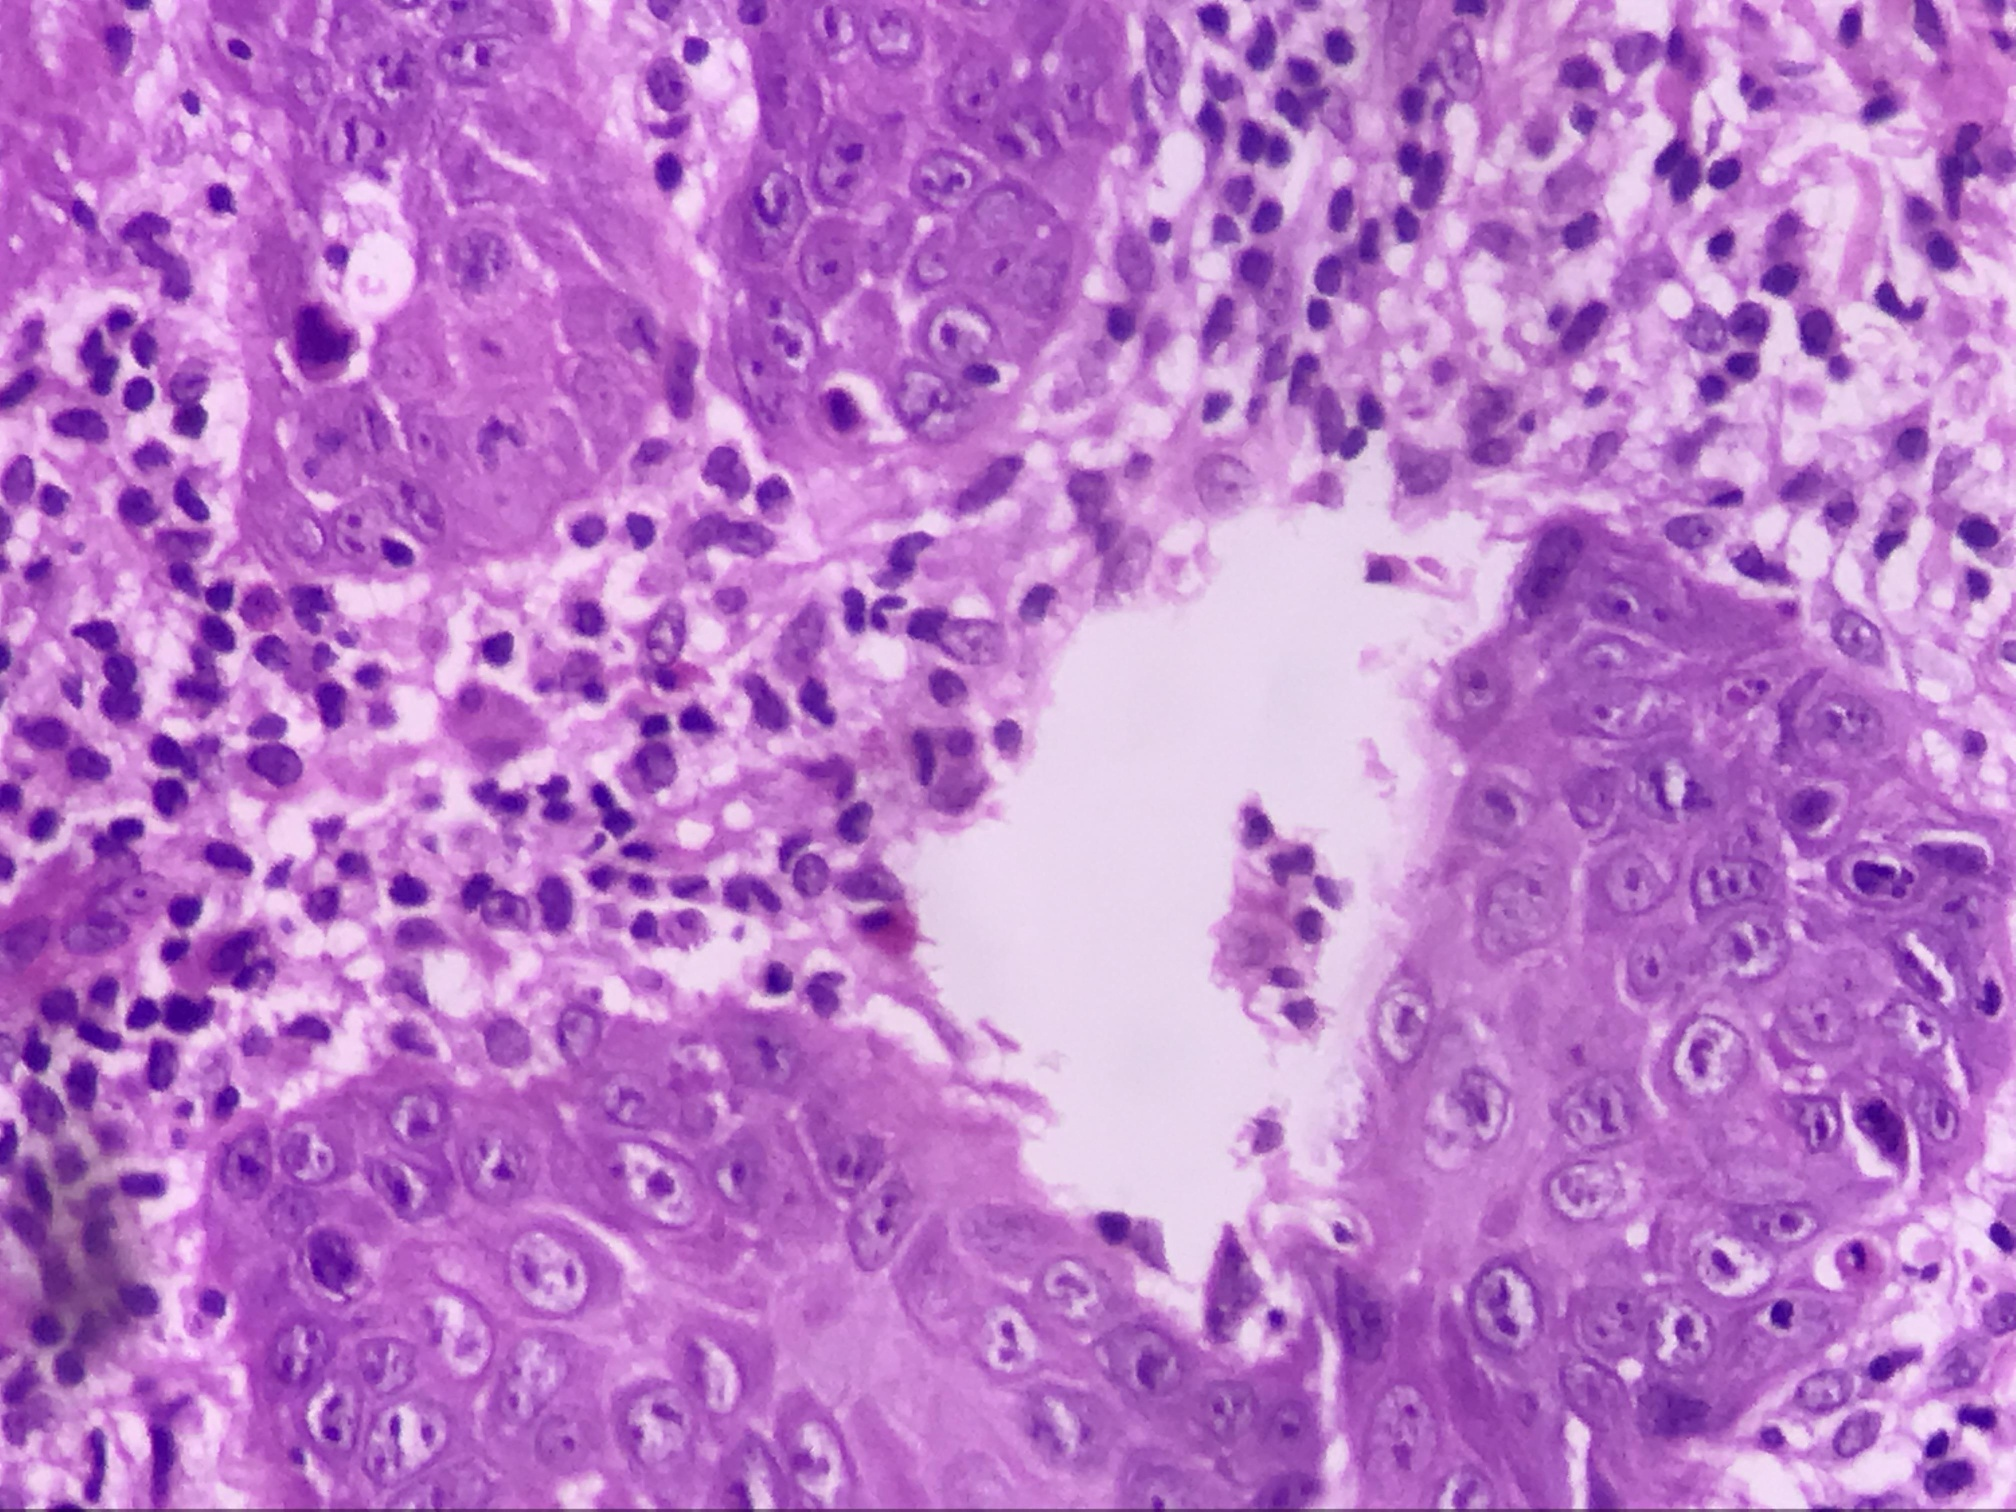mitotic: (260, 280, 402, 408)
